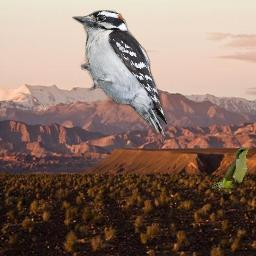Cuckoo: (212, 146, 253, 194)
Woodpecker: (72, 10, 167, 140)
